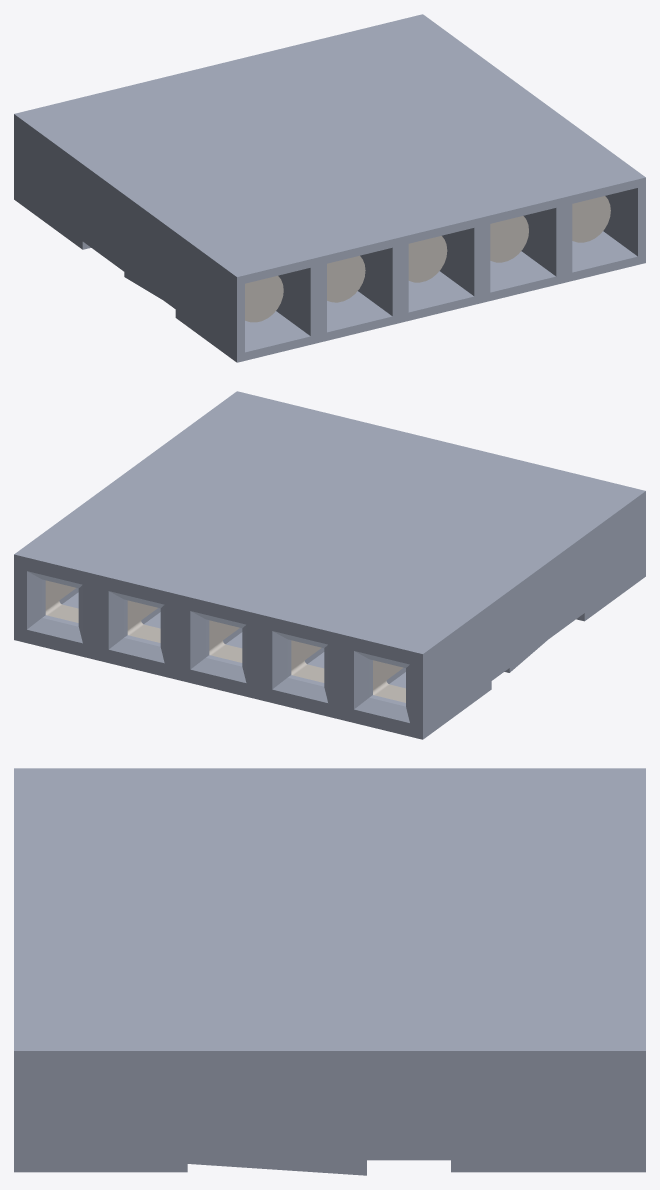
The picture shows the model from 3 angles, top to bottom: view 1: azimuth 30°, elevation 25°; view 2: azimuth 150°, elevation 25°; view 3: azimuth 270°, elevation 25°; orthographic projection. The views are drawn at different scales.
Parts seen in each view (by area): view 1: DS1071-1x5; view 2: DS1071-1x5; view 3: DS1071-1x5.
Part boxes in pixels (x1=…): DS1071-1x5: x1=14, y1=14, x2=645, y2=362; DS1071-1x5: x1=14, y1=391, x2=645, y2=739; DS1071-1x5: x1=14, y1=768, x2=645, y2=1175.
Bounding box in the file's own units: 0.0286 × 0.00628 × 0.027.
